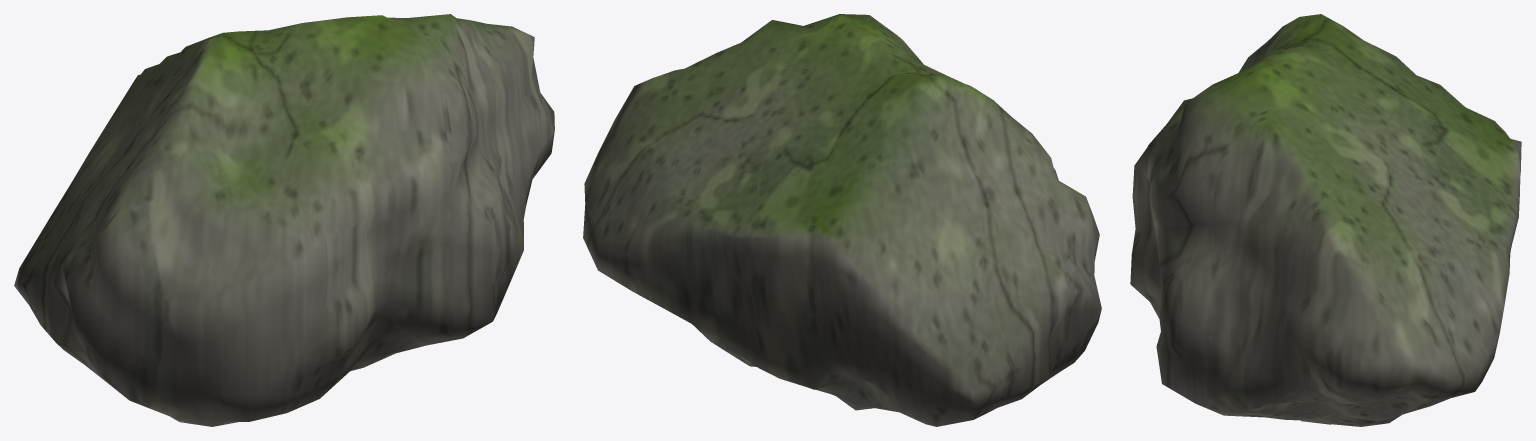
Rendered from rock-mossy-2.lite.glb.
3 renders of one model, left to right at view 1: azimuth 30°, elevation 25°; view 2: azimuth 150°, elevation 25°; view 3: azimuth 270°, elevation 25°, orthographic. The views are drawn at different scales.
Parts seen in each view (by area): view 1: model; view 2: model; view 3: model.
Boxes of the visible parts, box(x1,y1,x2,y2) form: model: box(14, 14, 554, 426); model: box(583, 14, 1101, 426); model: box(1130, 14, 1521, 426).
Size of the model in its own units: 1 by 0.6972 by 0.6541.
1 material, 1 textured.
